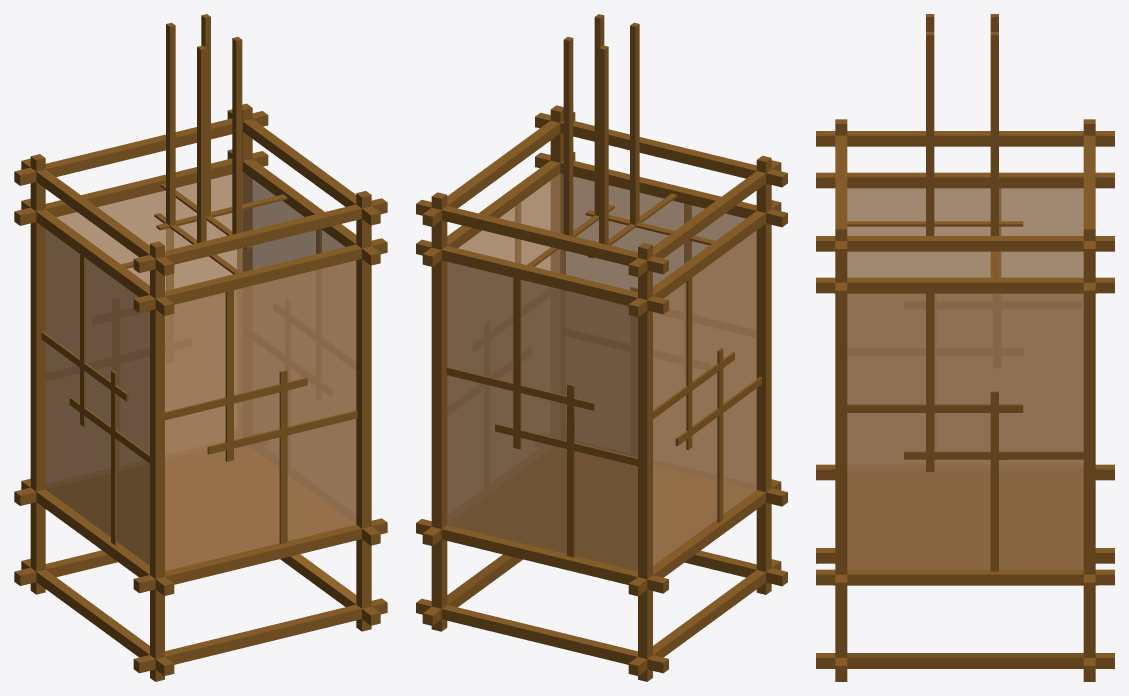
Rendered from White Lamp - hang.fbx.
3 renders of one model, left to right at view 1: azimuth 30°, elevation 25°; view 2: azimuth 150°, elevation 25°; view 3: azimuth 270°, elevation 25°, orthographic. The views are drawn at different scales.
Parts seen in each view (by area): view 1: pCube26; view 2: pCube26; view 3: pCube26.
Boxes of the visible parts, x1,y1,x2,y2 form: pCube26: [14, 14, 387, 681]; pCube26: [416, 14, 787, 681]; pCube26: [816, 14, 1114, 681].
Size of the model in its own units: 6.49 by 14.46 by 6.49.
